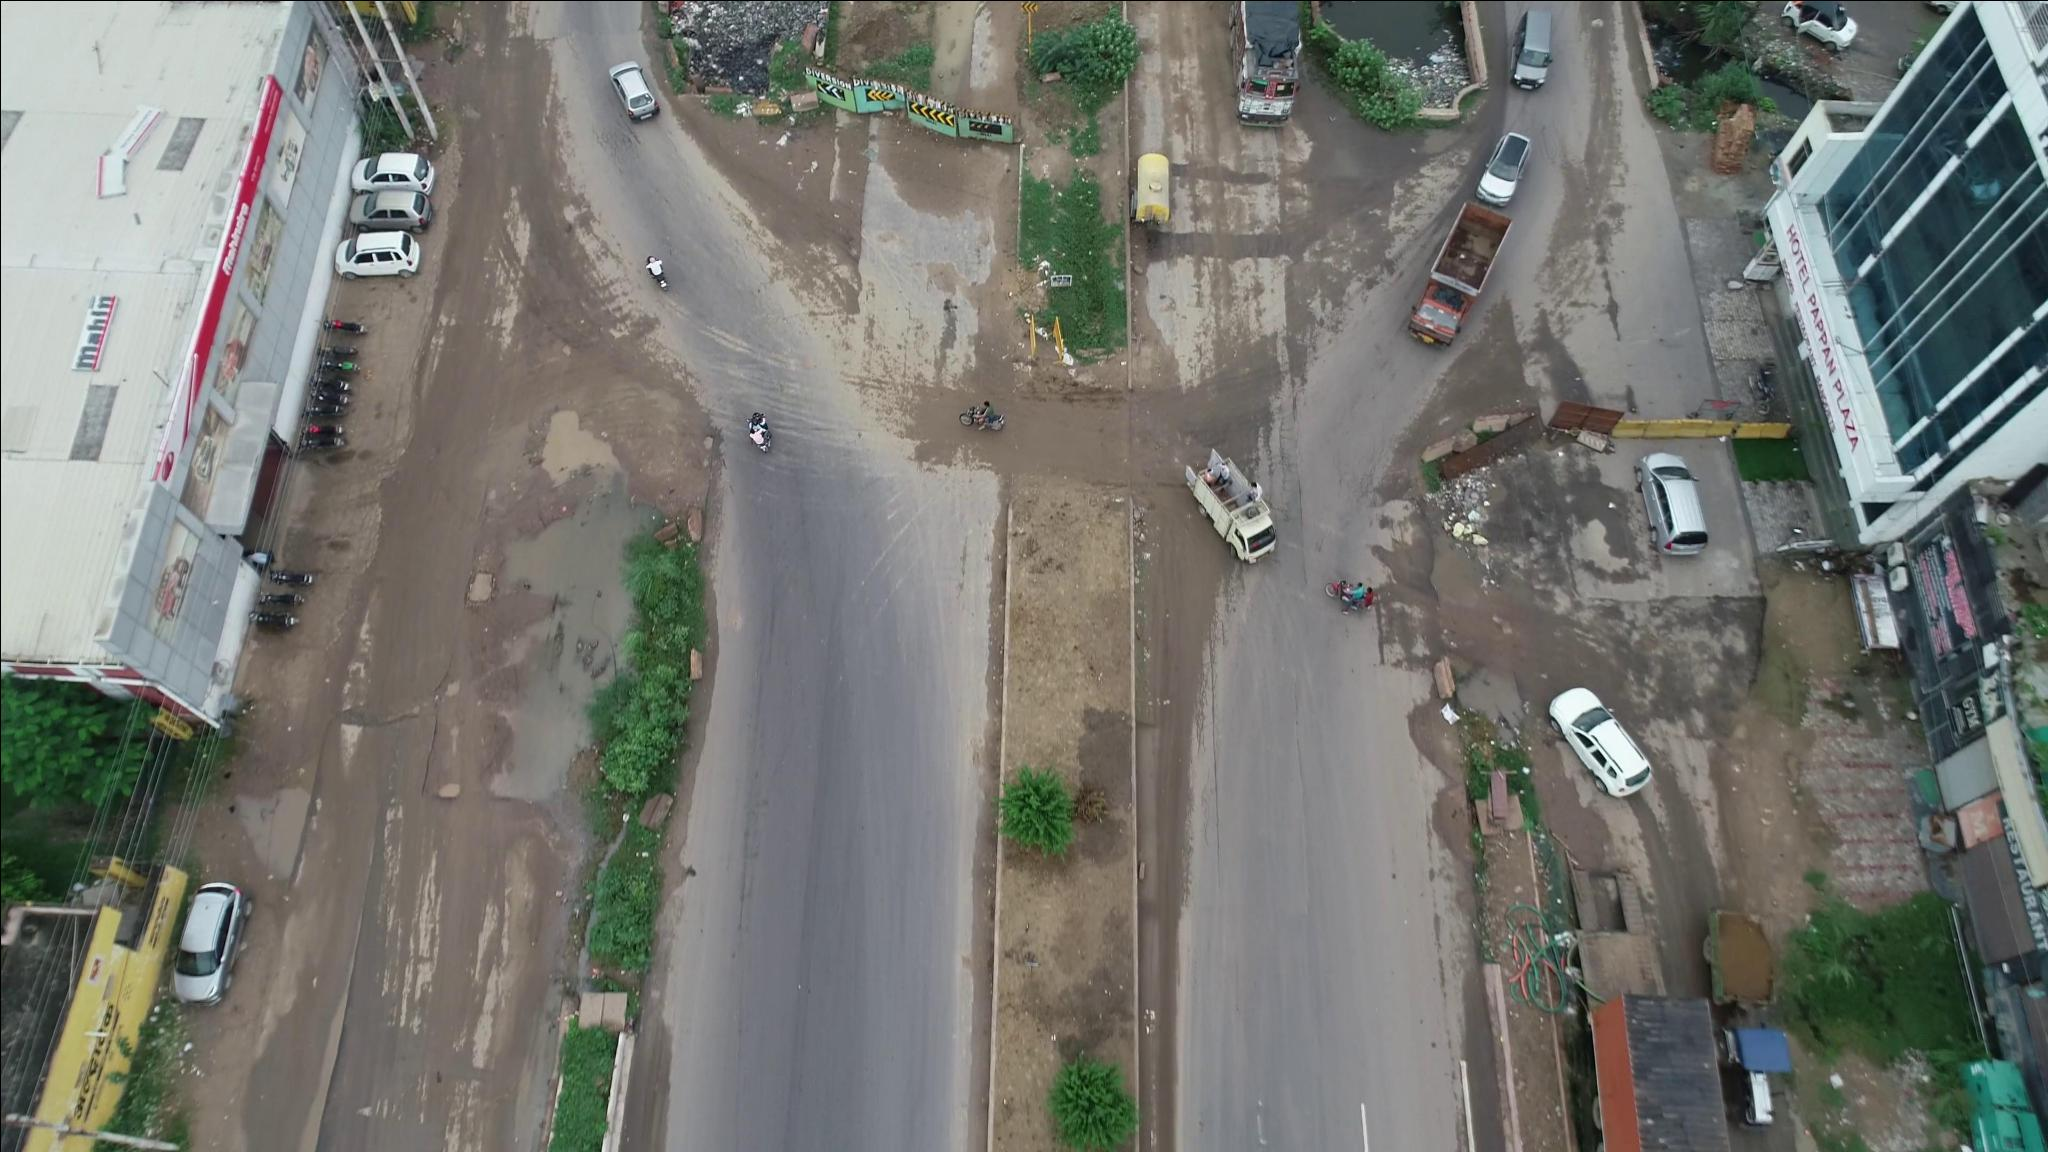Potholes: (444, 554, 518, 622), (691, 426, 729, 481)
Waterlogging: (477, 423, 653, 799)
